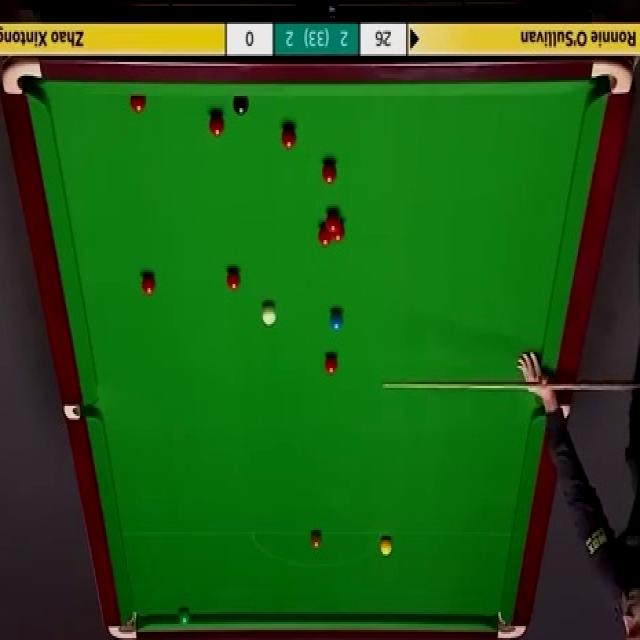pocket: (591, 60, 634, 97), (3, 58, 43, 96), (492, 612, 526, 640), (108, 609, 138, 640), (65, 403, 99, 420)
